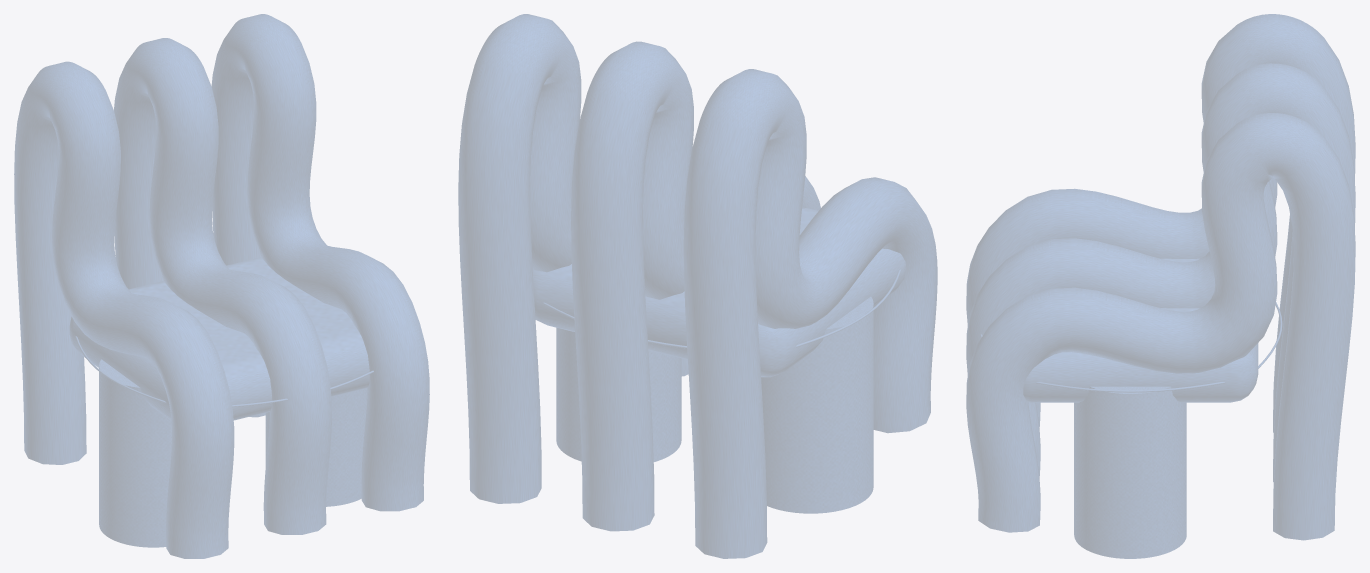
The model's file is ref02_09.glb.
3 views of the same model, side by side, from view 1: azimuth 30°, elevation 25°; view 2: azimuth 150°, elevation 25°; view 3: azimuth 270°, elevation 25° (orthographic). The views are drawn at different scales.
Visible parts, largest first — view 1: ref02_09; view 2: ref02_09; view 3: ref02_09.
Boxes of the visible parts, <box> form: ref02_09: <box>14,14,429,558</box>; ref02_09: <box>458,14,937,558</box>; ref02_09: <box>966,14,1355,558</box>.
Bounding box in the file's own units: 0.7402 × 1.08 × 0.8982.
Materials: 1 (1 with a texture image).
